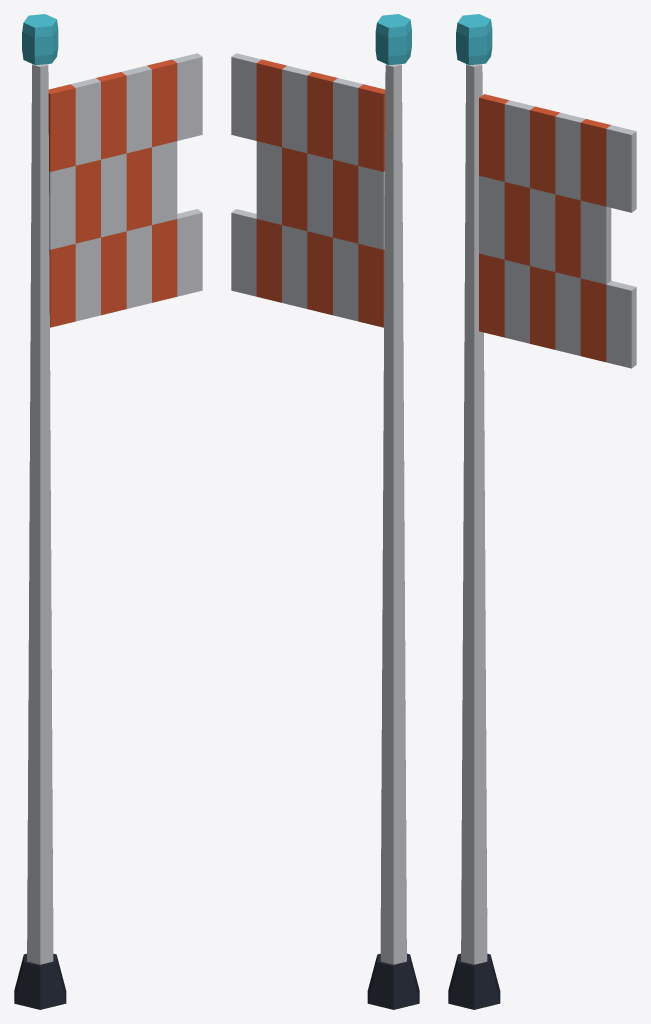
File: flag.glb
3 renders of one model, left to right at view 1: azimuth 30°, elevation 25°; view 2: azimuth 150°, elevation 25°; view 3: azimuth 330°, elevation 25°, orthographic.
Parts seen in each view (by area): view 1: moon-flag; view 2: moon-flag; view 3: moon-flag.
Boxes of the visible parts, left/top/right/bottom form: moon-flag: left=14, top=14, right=202, bottom=1009; moon-flag: left=231, top=14, right=419, bottom=1009; moon-flag: left=448, top=14, right=636, bottom=1009.
Size of the model in its own units: 0.25 by 1.25 by 0.0606.
